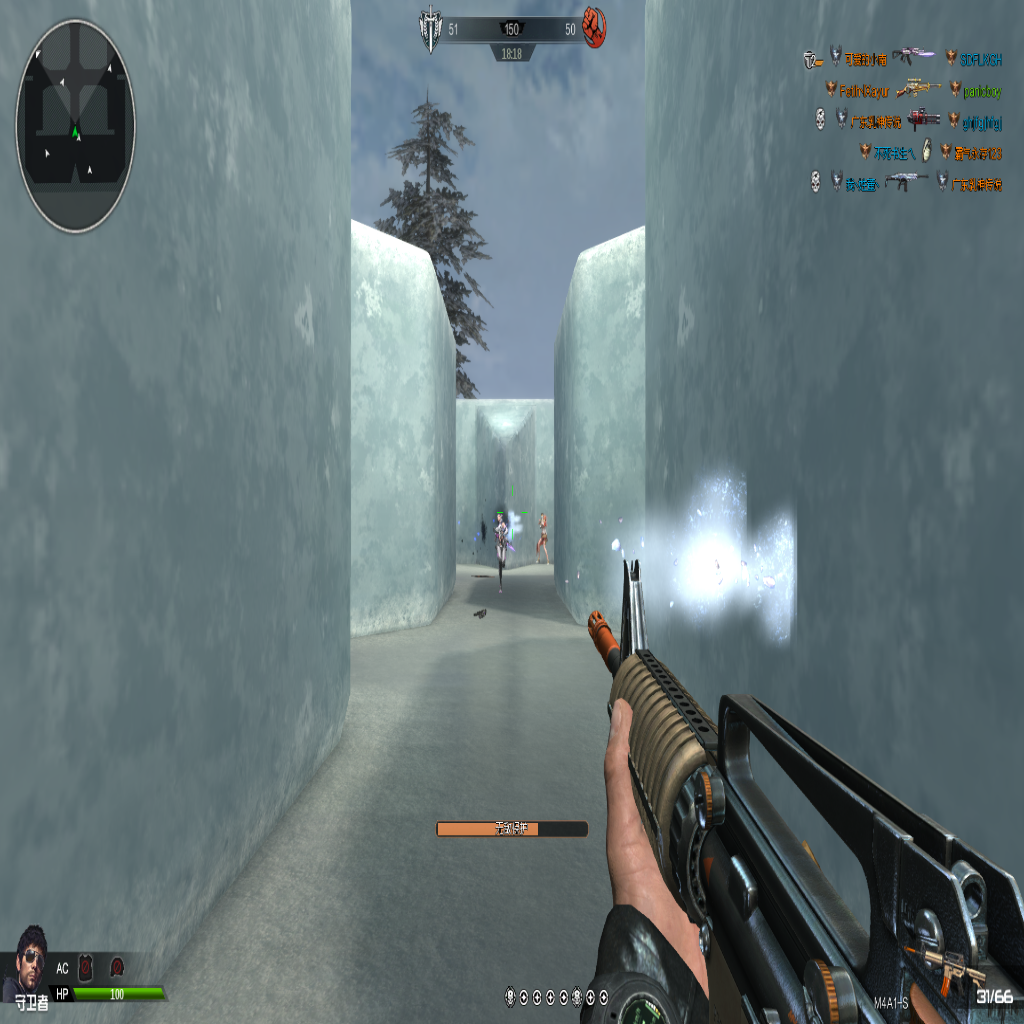tt: (494, 510, 509, 589), (535, 511, 549, 564)
